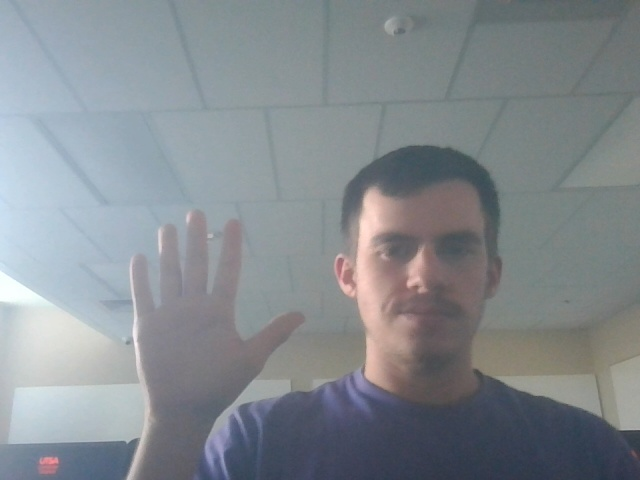hello: (110, 198, 316, 424)
